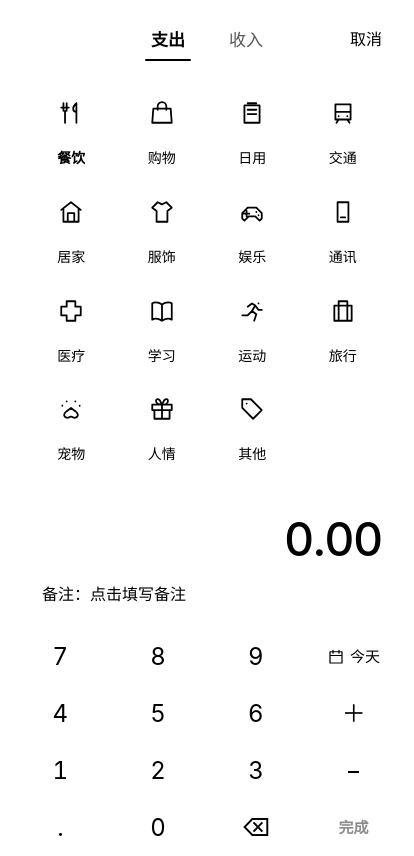
Test: switching to income selects an income category and keeps four-per-row layout
This screenshot has width=414, height=856.
Step 1. Click the tab "收入" → {"x": 246, "y": 40}, box [223,18,269,62]
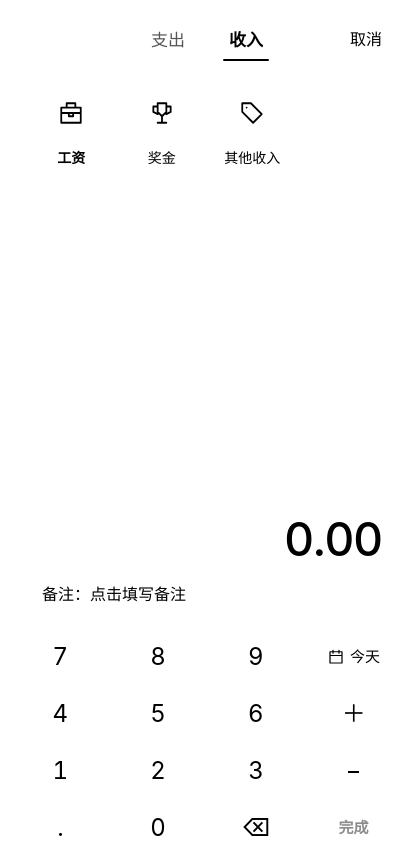
Check: the number of buttons with class "category-tile" is 3, box [28,84,114,167]; [118,84,205,167]; [209,84,296,167]
Check: the button with class "category-tile" reads "工资", box [28,84,114,167]
